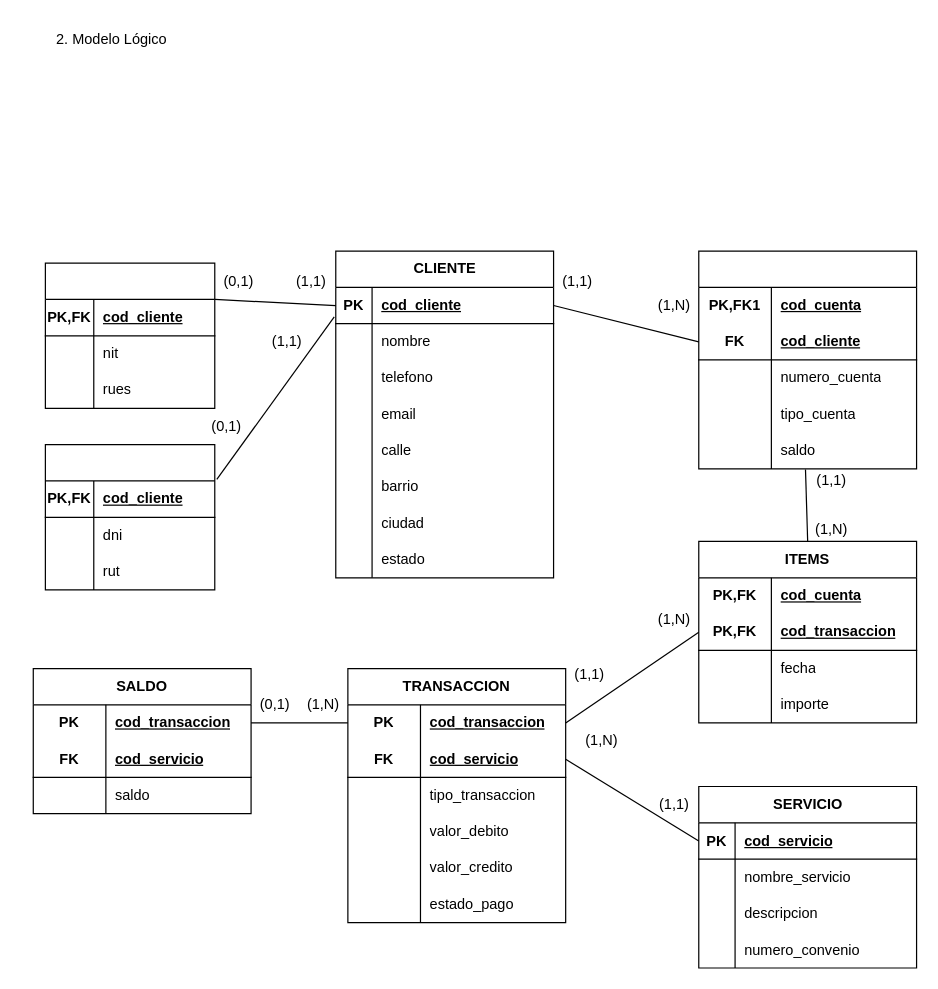
The diagram is 938 pixels wide and 989 high, and some of its shapes have lost their labels. The shapes that lost their labels are listed below. From the top down, each one's box as (x1, y1, x2, y2) in pixels, then its label:
(44, 262, 215, 408): PJ
(698, 250, 917, 469): CUENTA_BANCARIA
(44, 443, 215, 590): PN
